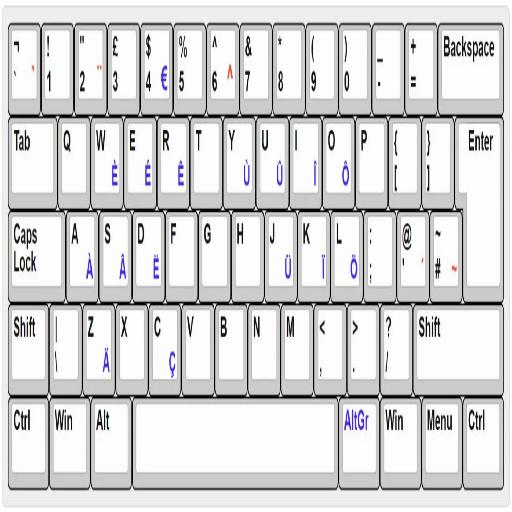KEYBOARD-2: (0, 2, 510, 508)
